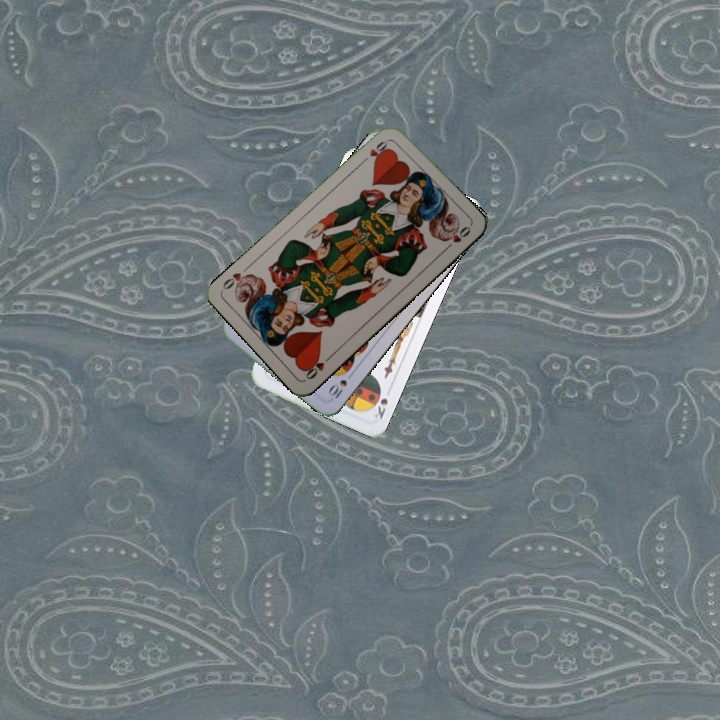HO: (301, 351, 334, 382), (366, 135, 392, 165)
S10: (324, 375, 350, 403)
SK: (370, 394, 391, 422)
